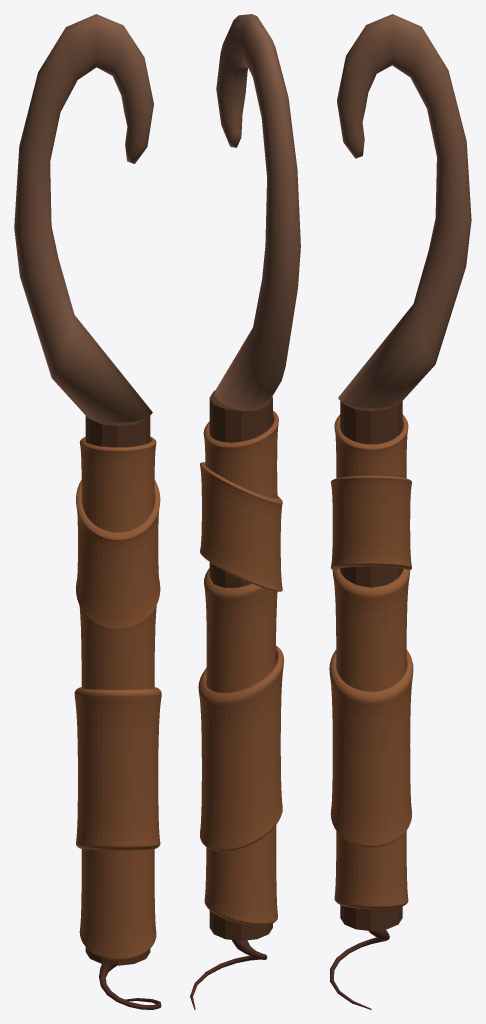
File: Wand 389.glb
The picture shows the model from 3 angles, left to right: view 1: azimuth 90°, elevation 25°; view 2: azimuth 210°, elevation 25°; view 3: azimuth 270°, elevation 25°; orthographic projection. The views are drawn at different scales.
Parts seen in each view (by area): view 1: GeneratedWand; view 2: GeneratedWand; view 3: GeneratedWand.
Part boxes in pixels (x1,y1,x2,y2): GeneratedWand: [14, 14, 161, 1009]; GeneratedWand: [190, 14, 300, 1009]; GeneratedWand: [329, 14, 471, 1009].
Size of the model in its own units: 0.0462 by 0.5216 by 0.069.
